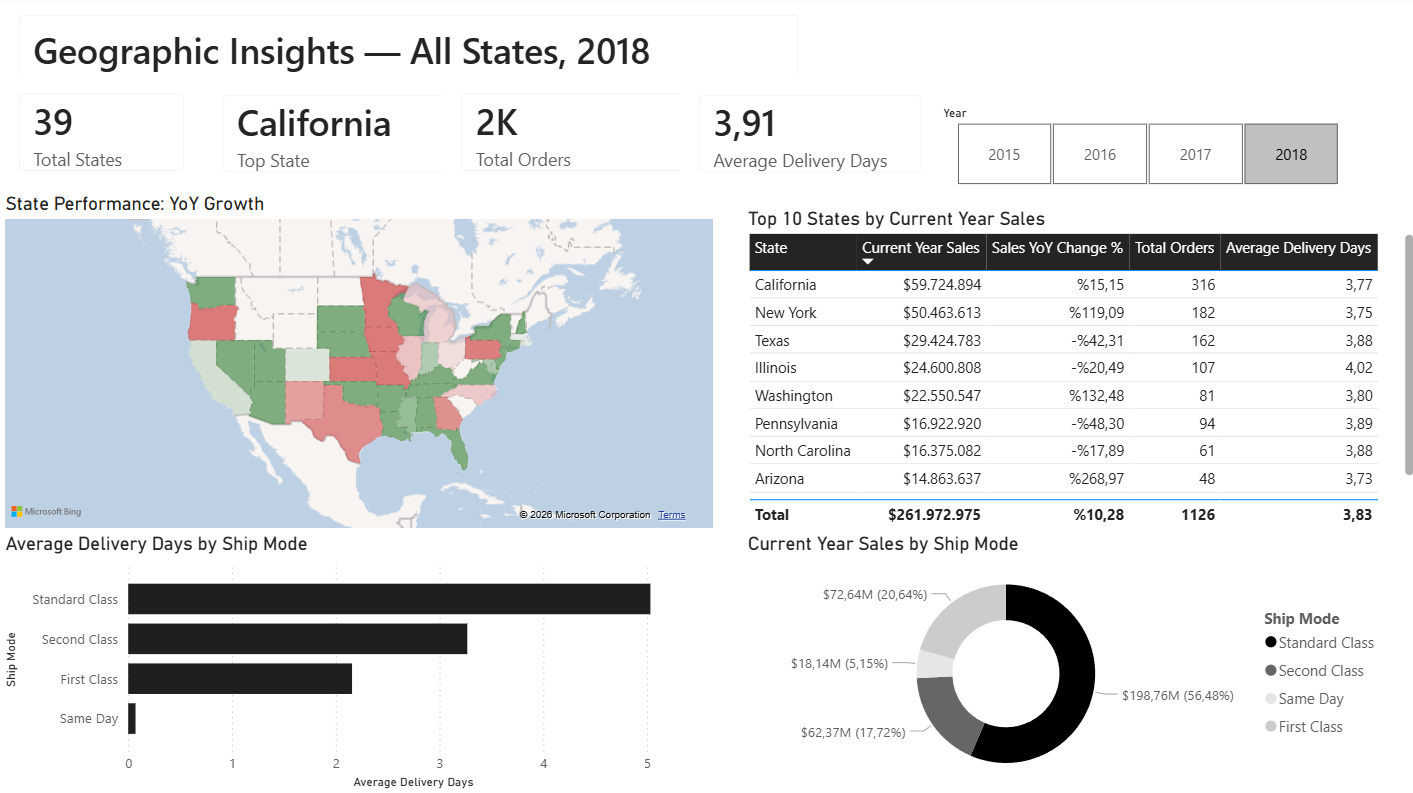

This screenshot's page, from the dashboard's own definition file:
{"tool":"powerbi","page":{"name":"Geographic Insights","canvas":[1280,720],"ordinal":1},"visuals":[{"type":"tableEx","title":"Top 10 States by Current Year Sales","fields":{"Values":["Dim_Customer.State","_Measures.Current Year Sales","_Measures.Sales YoY Change %","_Measures.Total Orders","_Measures.Average Delivery Days"]},"box":[669.3,190.3,610.8,293.6],"z":0},{"type":"filledMap","title":"State Performance: YoY Growth","fields":{"Category":["Dİm_Customer.State"]},"box":[0,176.6,648.1,307.3],"z":1000},{"type":"cardVisual","fields":{"Data":["_Measures.Geographic Title"]},"box":[0,0,737.7,93.3],"z":2000},{"type":"cardVisual","fields":{"Data":["_Measures.Total States"]},"box":[0,70.9,183.8,104.2],"z":2000,"group":"g1"},{"type":"group","id":"g1","title":"Group 1","box":[0,70.9,848.4,105.7],"z":3000},{"type":"cardVisual","fields":{"Data":["_Measures.Top State"]},"box":[183.8,71.7,235.3,104.2],"z":3000,"group":"g1"},{"type":"cardVisual","fields":{"Data":["_Measures.Total Orders"]},"box":[398.5,70.9,235.3,104.2],"z":4000,"group":"g1"},{"type":"barChart","fields":{"Category":["Fact_Table.Ship Mode"],"Y":["_Measures.Average Delivery Days"]},"box":[0,483.9,639.4,236.4],"z":4000},{"type":"cardVisual","fields":{"Data":["_Measures.Average Delivery Days"]},"box":[613.1,72.5,235.3,104.2],"z":5000,"group":"g1"},{"type":"donutChart","fields":{"Category":["Fact_Table.Ship Mode"],"Y":["_Measures.Current Year Sales"]},"box":[669.3,483.9,583.4,236.4],"z":5000},{"type":"slicer","fields":{"Values":["Dim_Date.Year"]},"box":[837.2,93.3,393.1,83.3],"z":6000}]}

Visuals, with their boxes in screenshot pixels (x1, y1, x2, y2), scaled from the page's 1280x720 canvas onto the 1413x793 screenshot:
"Top 10 States by Current Year Sales" tableEx: crop(739, 210, 1412, 533)
"State Performance: YoY Growth" filledMap: crop(0, 195, 715, 533)
cardVisual - _Measures.Geographic Title: crop(0, 0, 814, 103)
cardVisual - _Measures.Total States: crop(0, 78, 203, 193)
"Group 1" group: crop(0, 78, 937, 195)
cardVisual - _Measures.Top State: crop(203, 79, 463, 194)
cardVisual - _Measures.Total Orders: crop(440, 78, 700, 193)
barChart - Fact_Table.Ship Mode x _Measures.Average Delivery Days: crop(0, 533, 706, 792)
cardVisual - _Measures.Average Delivery Days: crop(677, 80, 937, 195)
donutChart - Fact_Table.Ship Mode x _Measures.Current Year Sales: crop(739, 533, 1383, 792)
slicer - Dim_Date.Year: crop(924, 103, 1358, 195)
